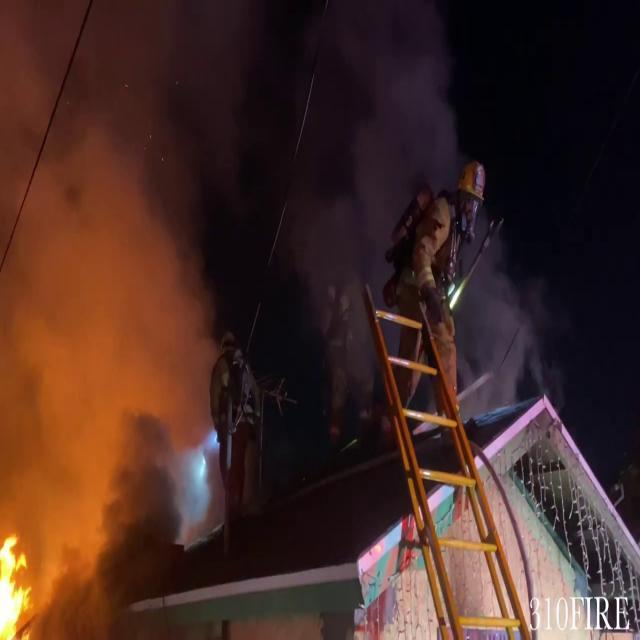Fire: (0, 533, 42, 639)
Smoke: (0, 6, 225, 550)
